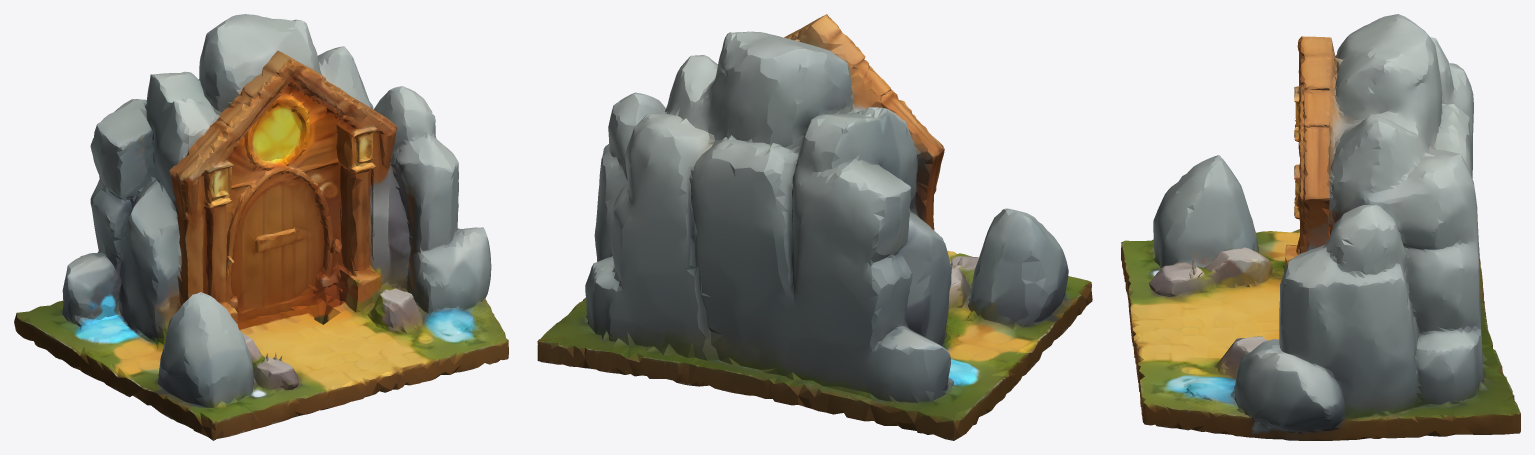
File: mines.glb
3 views of the same model, side by side, from view 1: azimuth 30°, elevation 25°; view 2: azimuth 150°, elevation 25°; view 3: azimuth 270°, elevation 25° (orthographic). The views are drawn at different scales.
Parts seen in each view (by area): view 1: CrystalMines; view 2: CrystalMines; view 3: CrystalMines.
Part boxes in pixels (<box>): CrystalMines: <box>14,14,508,440</box>; CrystalMines: <box>537,14,1092,440</box>; CrystalMines: <box>1121,14,1520,440</box>.
Bounding box in the file's own units: 1.89 × 1.33 × 1.51.
1 material, 1 textured.
